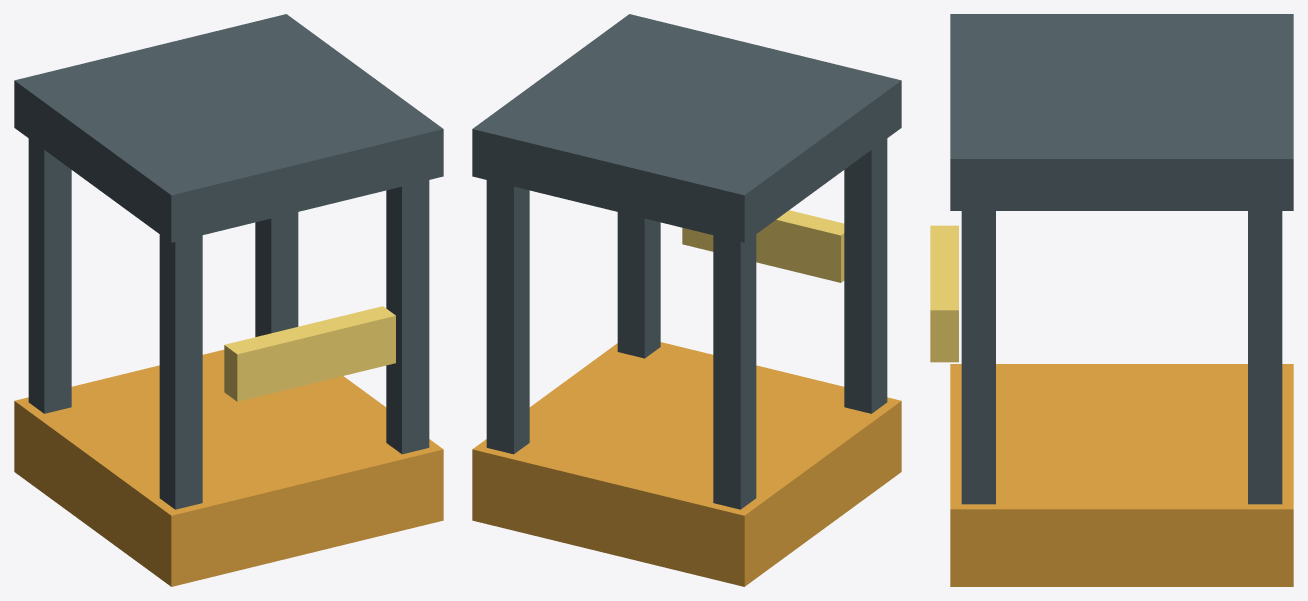
The model's file is 30_lighthouse_lift.glb.
3 views of the same model, side by side, from view 1: azimuth 30°, elevation 25°; view 2: azimuth 150°, elevation 25°; view 3: azimuth 270°, elevation 25° (orthographic). The views are drawn at different scales.
Parts seen in each view (by area): view 1: lighthouse_lift_roof, lighthouse_lift_platform, lighthouse_lift_post_17_-5, lighthouse_lift_post_17_+5, lighthouse_lift_post_27_-5, lighthouse_lift_warning, lighthouse_lift_post_27_+5; view 2: lighthouse_lift_platform, lighthouse_lift_roof, lighthouse_lift_post_17_+5, lighthouse_lift_post_27_+5, lighthouse_lift_post_17_-5, lighthouse_lift_post_27_-5, lighthouse_lift_warning; view 3: lighthouse_lift_roof, lighthouse_lift_platform, lighthouse_lift_post_27_+5, lighthouse_lift_post_27_-5, lighthouse_lift_warning.
Boxes of the visible parts, left/top/right/bottom form: lighthouse_lift_roof: left=14, top=14, right=443, bottom=242; lighthouse_lift_platform: left=14, top=349, right=443, bottom=586; lighthouse_lift_post_17_-5: left=159, top=234, right=202, bottom=509; lighthouse_lift_post_17_+5: left=28, top=138, right=71, bottom=413; lighthouse_lift_post_27_-5: left=386, top=180, right=429, bottom=454; lighthouse_lift_warning: left=224, top=306, right=395, bottom=401; lighthouse_lift_post_27_+5: left=255, top=212, right=298, bottom=336; lighthouse_lift_platform: left=472, top=342, right=901, bottom=586; lighthouse_lift_roof: left=472, top=14, right=901, bottom=242; lighthouse_lift_post_17_+5: left=713, top=234, right=756, bottom=509; lighthouse_lift_post_27_+5: left=486, top=180, right=529, bottom=454; lighthouse_lift_post_17_-5: left=844, top=138, right=887, bottom=413; lighthouse_lift_post_27_-5: left=617, top=212, right=660, bottom=358; lighthouse_lift_warning: left=682, top=210, right=844, bottom=282; lighthouse_lift_roof: left=950, top=14, right=1293, bottom=210; lighthouse_lift_platform: left=950, top=364, right=1293, bottom=586; lighthouse_lift_post_27_+5: left=1248, top=211, right=1282, bottom=504; lighthouse_lift_post_27_-5: left=961, top=211, right=995, bottom=504; lighthouse_lift_warning: left=930, top=225, right=958, bottom=362.
Bounding box in the file's own units: 12 × 16.5 × 12.7.
